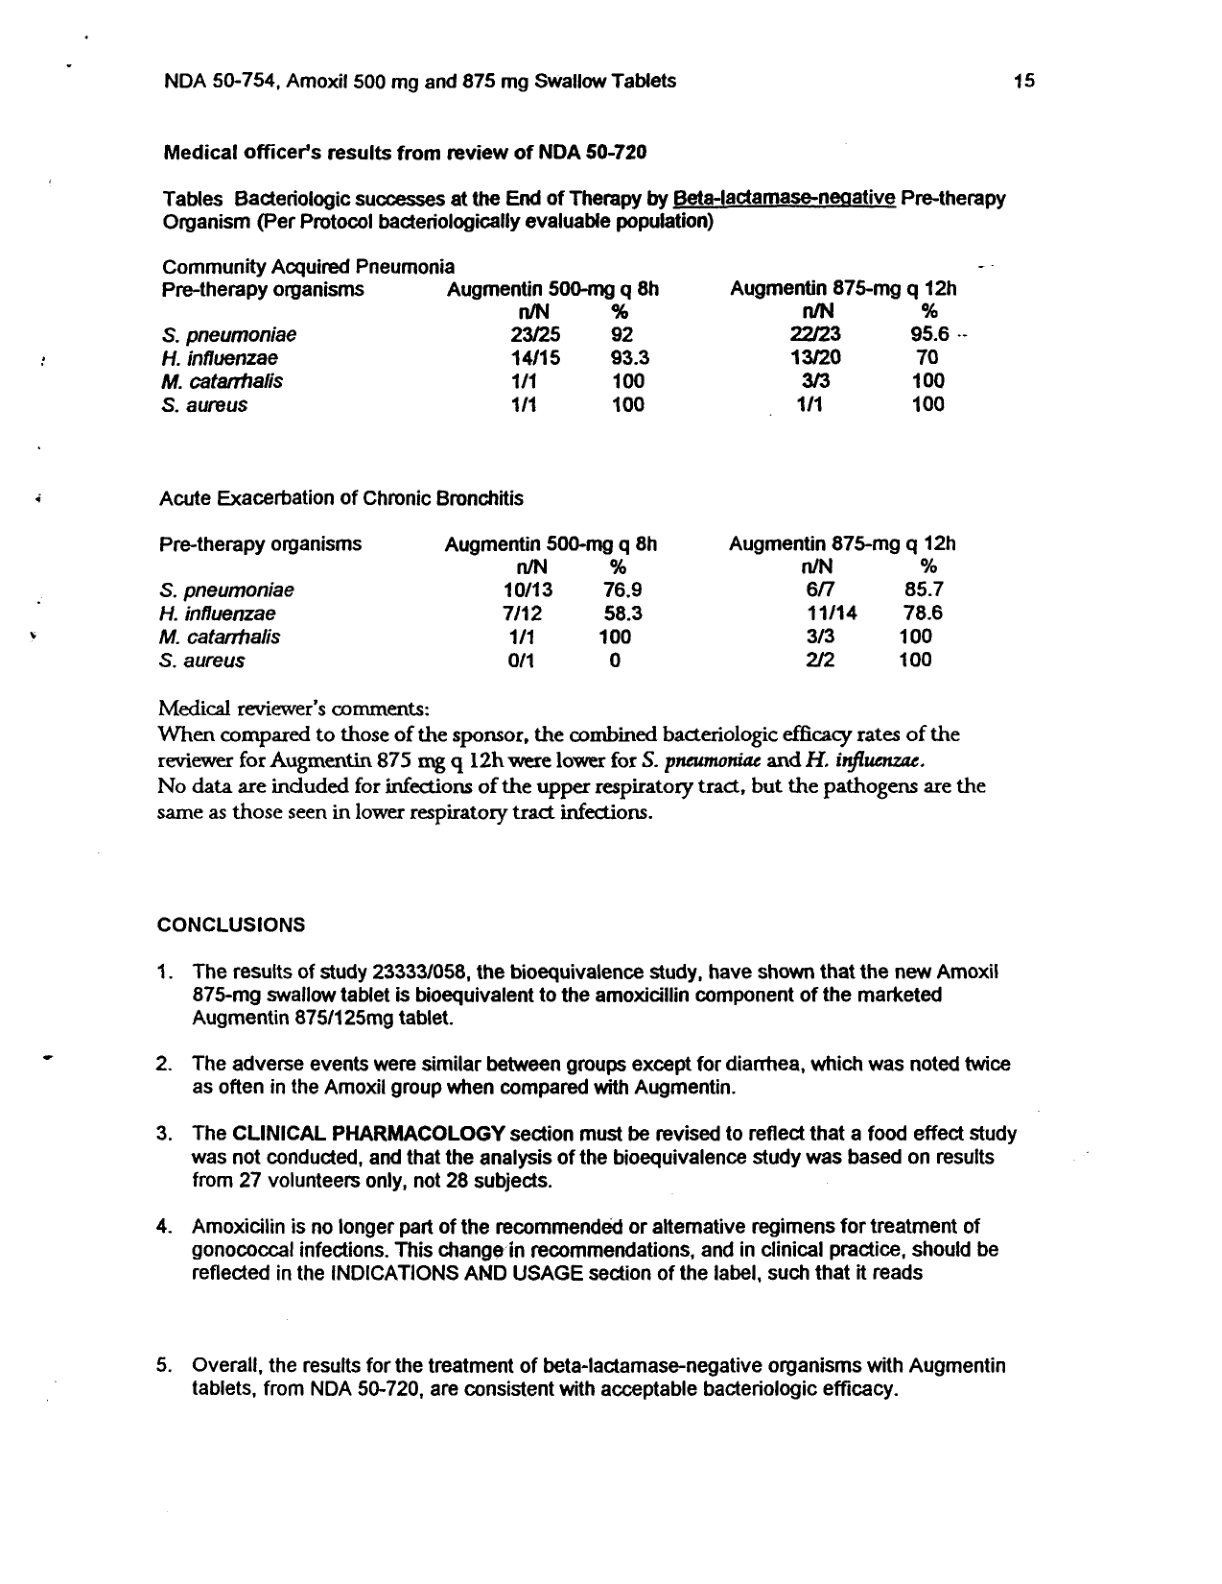nolines: (155, 531, 961, 670), (158, 279, 958, 413)
